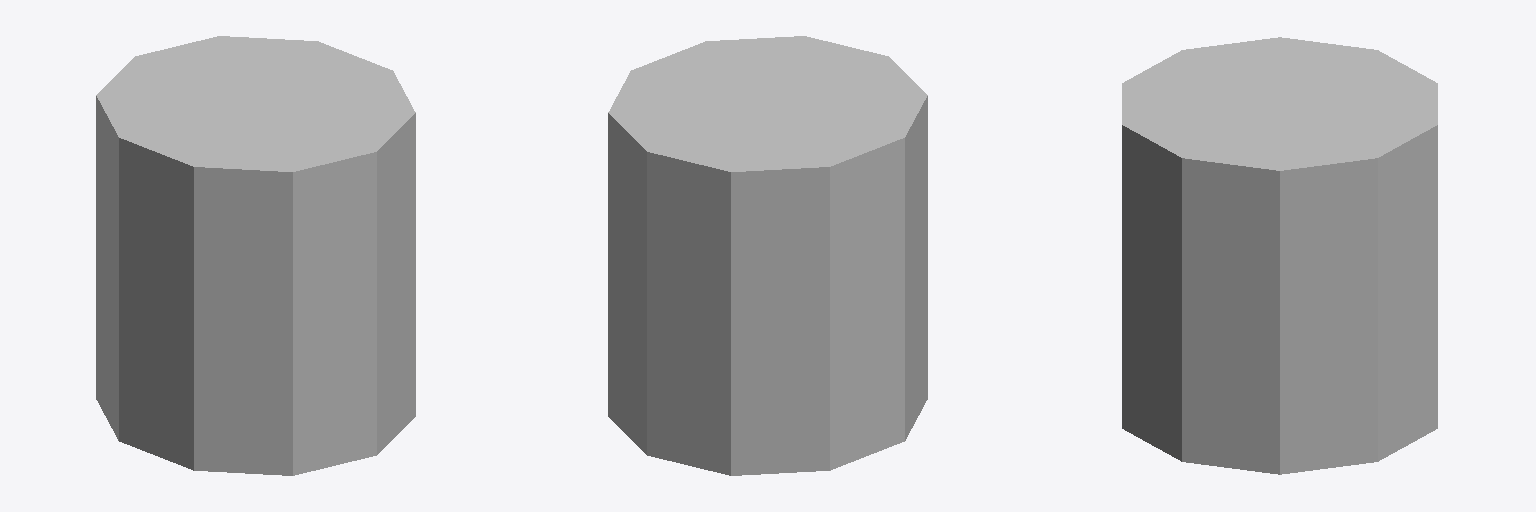
Rendered from Cylindrical Obstacle.obj.
The picture shows the model from 3 angles: view 1: azimuth 30°, elevation 25°; view 2: azimuth 150°, elevation 25°; view 3: azimuth 270°, elevation 25°; orthographic projection.
Parts seen in each view (by area): view 1: Cylindrical Obstacle; view 2: Cylindrical Obstacle; view 3: Cylindrical Obstacle.
Boxes of the visible parts, box(x1,y1,x2,y2) form: Cylindrical Obstacle: box(96, 36, 415, 475); Cylindrical Obstacle: box(608, 36, 927, 475); Cylindrical Obstacle: box(1122, 37, 1437, 474).
Bounding box in the file's own units: 1.71 × 1.81 × 1.71.